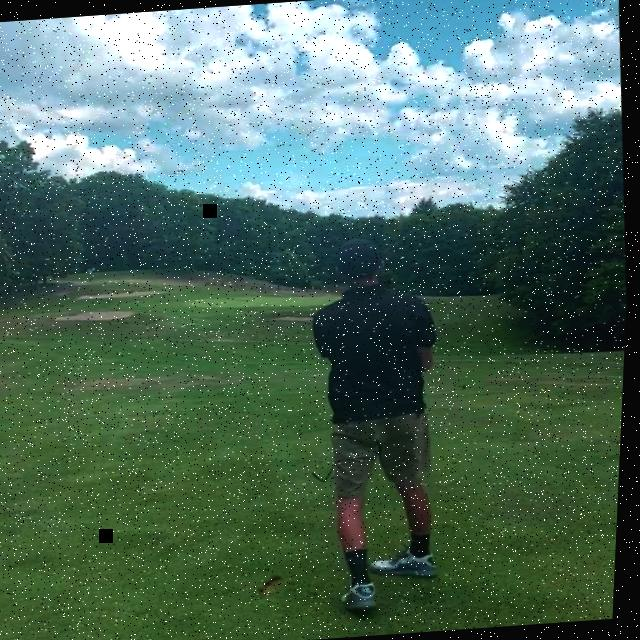ClubHead: (316, 470, 330, 482)
